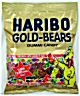grozi_66: (2, 2, 78, 94)
